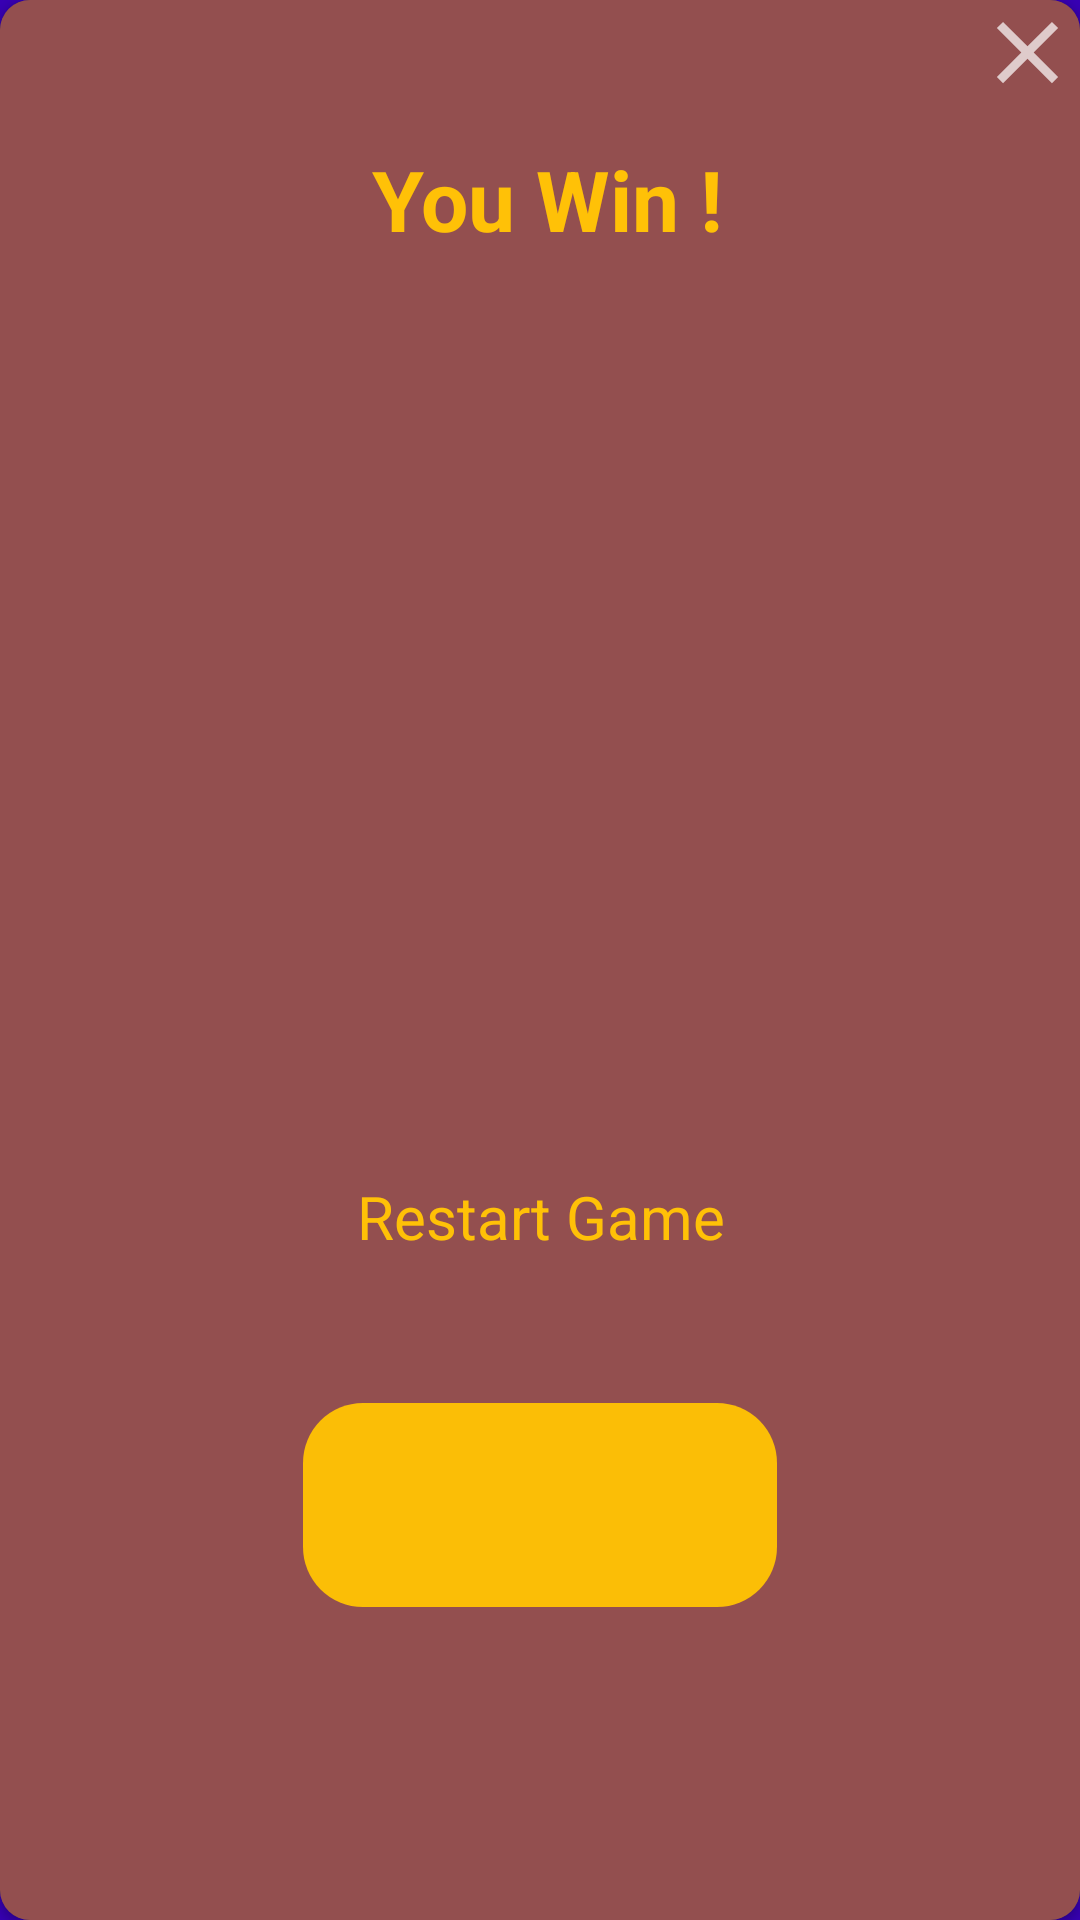

Icons on this 1080px×1920px Android screen, each with its box as (x1, y1, x2, y2):
close: (997, 0, 1080, 83)
